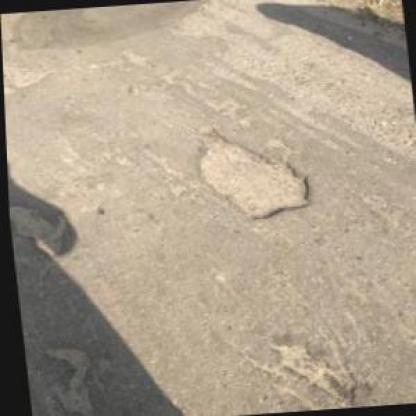pothole: (186, 115, 316, 226), (262, 335, 362, 412)
